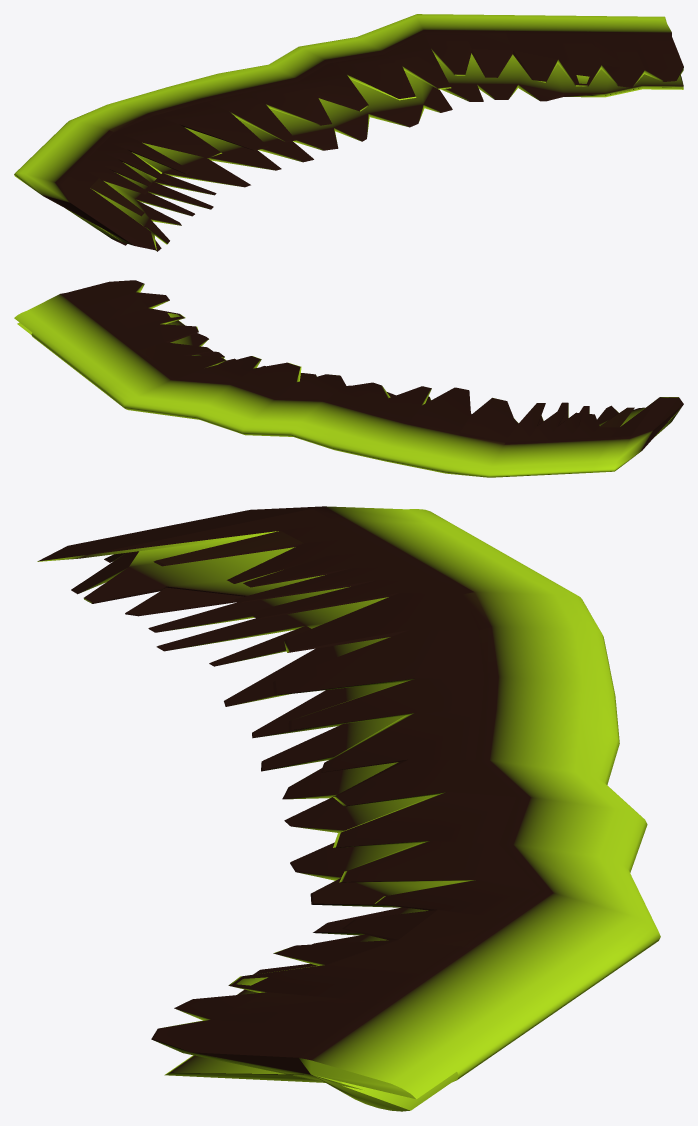
The model's file is wingL.fbx.
3 renders of one model, top to bottom at view 1: azimuth 30°, elevation 25°; view 2: azimuth 150°, elevation 25°; view 3: azimuth 270°, elevation 25°, orthographic. The views are drawn at different scales.
Parts seen in each view (by area): view 1: pCylinder1; view 2: pCylinder1; view 3: pCylinder1.
Boxes of the visible parts, x1,y1,x2,y2 form: pCylinder1: (14, 14, 683, 251); pCylinder1: (14, 280, 683, 477); pCylinder1: (37, 506, 660, 1111).
Size of the model in its own units: 4.67 by 0.2344 by 2.09.
